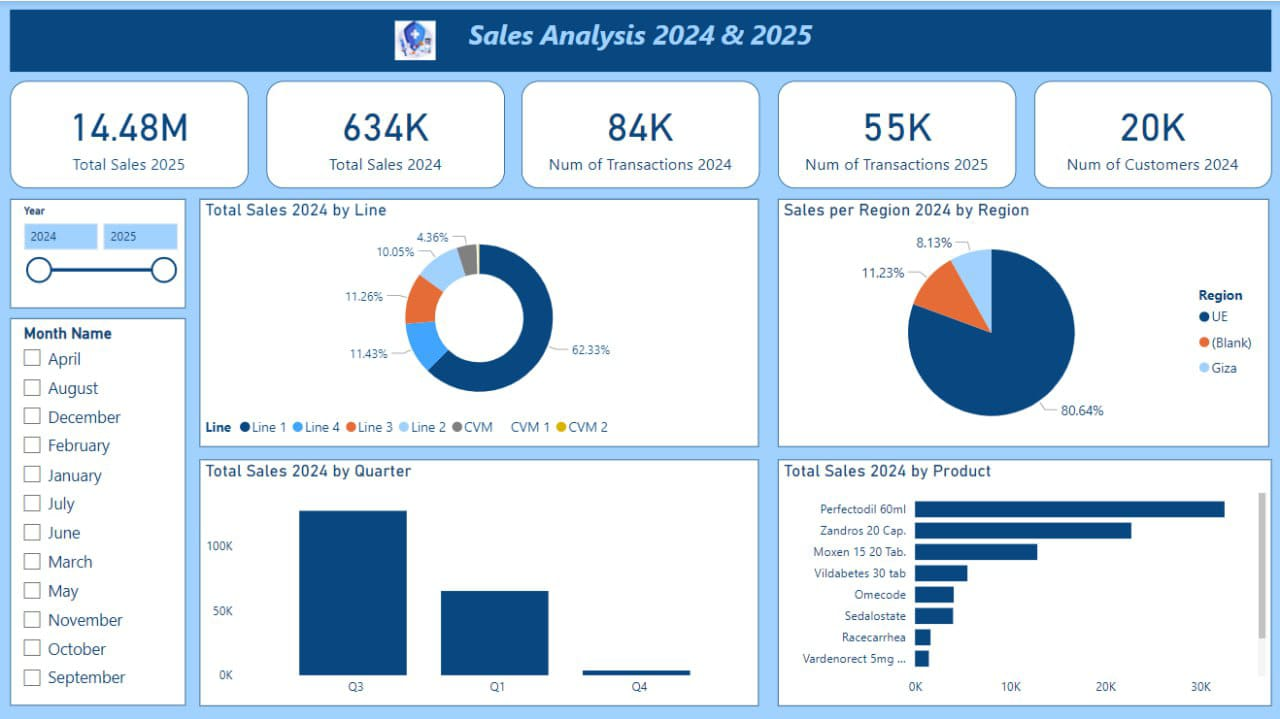

The dashboard page shown, as its layout file describes it:
{"tool":"powerbi","page":{"name":"OverView","canvas":[1280,720],"ordinal":0},"visuals":[{"type":"slicer","fields":{"Values":["DimDates.Date Hierarchy.Month Name"]},"box":[10.6,318,175.6,387.6],"z":0},{"type":"slicer","fields":{"Values":["DimDates.Date Hierarchy.Year"]},"box":[10.6,198.4,175.6,109],"z":1000},{"type":"textbox","box":[10.6,9.1,1259.8,62.1],"z":2000},{"type":"image","box":[340.7,15.1,148.4,50],"z":3000},{"type":"card","fields":{"Values":["Dax_mes2025.Total Sales 2025"]},"box":[10,80,238,107],"z":4000},{"type":"card","fields":{"Values":["DAX_Measuers2024.Total Sales 2024"]},"box":[265.8,80,238,107],"z":5000},{"type":"card","fields":{"Values":["DAX_Measuers2024.Number of Transactions 2024"]},"box":[521.5,80,238,107],"z":6000},{"type":"card","fields":{"Values":["Dax_mes2025.Number of Transactions 2025"]},"box":[777.2,80,238,107],"z":7000},{"type":"card","fields":{"Values":["DAX_Measuers2024.Num of Customers 2024"]},"box":[1033,80,237,107],"z":8000},{"type":"pieChart","fields":{"Y":["DAX_Measuers2024.Sales per Region 2024"],"Category":["SalesData_2024.Region"]},"box":[776.8,198.4,490.6,248.3],"z":9000},{"type":"columnChart","fields":{"Y":["DAX_Measuers2024.Total Sales 2024"],"Category":["DimDates.Date Hierarchy.Quarter"]},"box":[199.9,458.8,558.7,246.8],"z":10000},{"type":"clusteredBarChart","fields":{"Y":["DAX_Measuers2024.Total Sales 2024"],"Category":["SalesData_2024.Product"]},"box":[776.8,458.8,493.6,246.8],"z":11000},{"type":"donutChart","fields":{"Category":["SalesData_2024.Line"],"Y":["DAX_Measuers2024.Total Sales 2024"]},"box":[199.9,198.4,558.7,248.3],"z":12000}]}

Visuals, with their boxes in screenshot pixels (x1, y1, x2, y2), scaled from the page's 1280x720 canvas onto the 1280x719 screenshot:
slicer - DimDates.Date Hierarchy.Month Name: left=11, top=318, right=186, bottom=705
slicer - DimDates.Date Hierarchy.Year: left=11, top=198, right=186, bottom=307
textbox: left=11, top=9, right=1270, bottom=71
image: left=341, top=15, right=489, bottom=65
card - Dax_mes2025.Total Sales 2025: left=10, top=80, right=248, bottom=187
card - DAX_Measuers2024.Total Sales 2024: left=266, top=80, right=504, bottom=187
card - DAX_Measuers2024.Number of Transactions 2024: left=522, top=80, right=760, bottom=187
card - Dax_mes2025.Number of Transactions 2025: left=777, top=80, right=1015, bottom=187
card - DAX_Measuers2024.Num of Customers 2024: left=1033, top=80, right=1270, bottom=187
pieChart - DAX_Measuers2024.Sales per Region 2024 x SalesData_2024.Region: left=777, top=198, right=1267, bottom=446
columnChart - DAX_Measuers2024.Total Sales 2024 x DimDates.Date Hierarchy.Quarter: left=200, top=458, right=759, bottom=705
clusteredBarChart - DAX_Measuers2024.Total Sales 2024 x SalesData_2024.Product: left=777, top=458, right=1270, bottom=705
donutChart - SalesData_2024.Line x DAX_Measuers2024.Total Sales 2024: left=200, top=198, right=759, bottom=446
